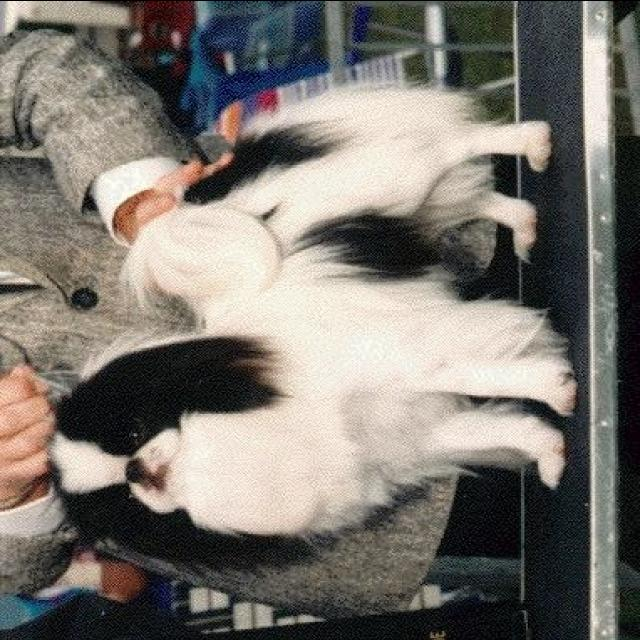husky: (46, 72, 580, 578)
